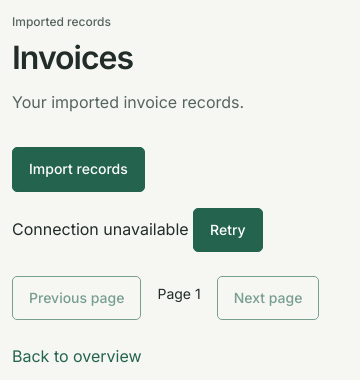
Scenario: offers recovery when record loading fails
Click the button "Retry": (228, 230) [193,208,263,252]
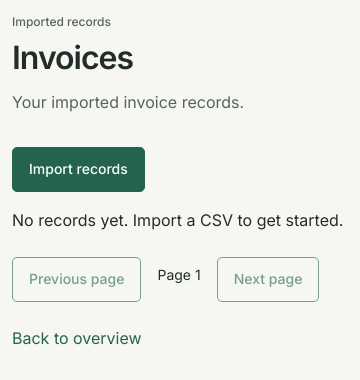
expect the text "No records yet. Import a CSV to get started." is shown: met, box [12,210,343,230]
